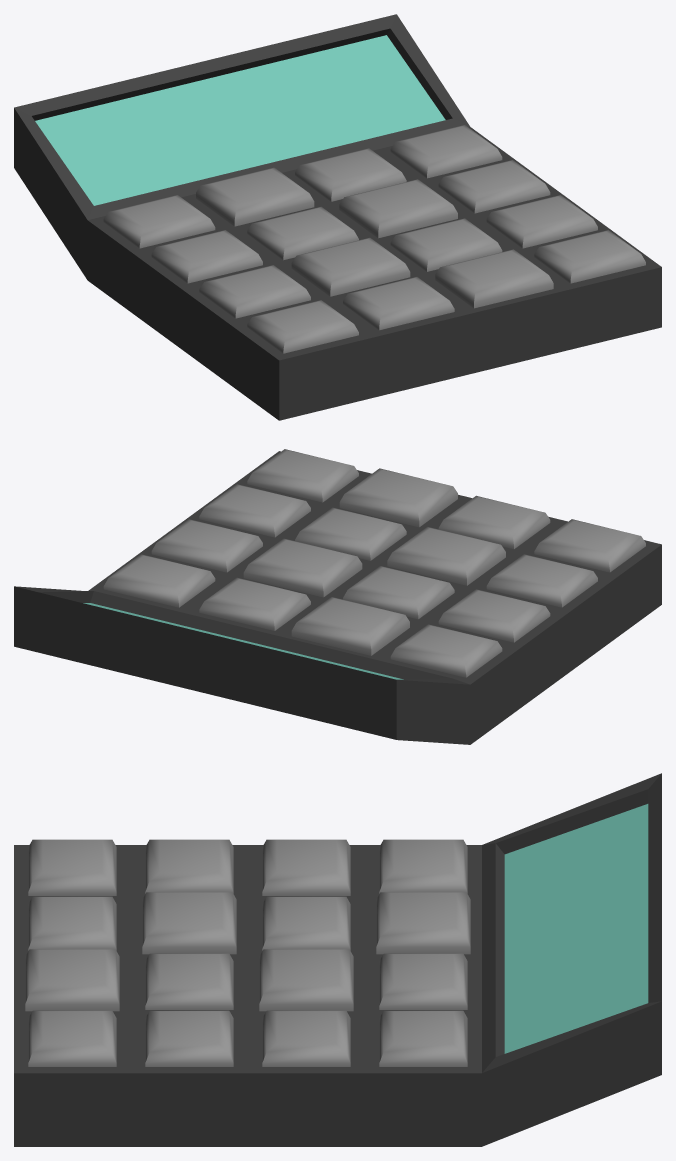
File: Calculator.fbx
The picture shows the model from 3 angles, top to bottom: view 1: azimuth 30°, elevation 25°; view 2: azimuth 150°, elevation 25°; view 3: azimuth 270°, elevation 25°; orthographic projection. The views are drawn at different scales.
Parts seen in each view (by area): view 1: Calculator; view 2: Calculator; view 3: Calculator.
Boxes of the visible parts, <box> form: Calculator: <box>14,14,661,420</box>; Calculator: <box>14,449,661,744</box>; Calculator: <box>14,773,661,1146</box>.
Size of the model in its own units: 0.0423 by 0.0126 by 0.0508.
